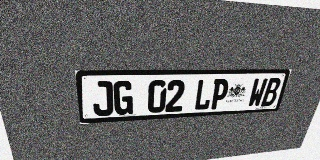0: (147, 80, 167, 113)
2: (165, 80, 185, 112)
B: (260, 78, 282, 106)
G: (113, 80, 133, 115)
J: (91, 81, 113, 116)
L: (193, 79, 214, 110)
P: (209, 79, 230, 110)
W: (247, 78, 268, 107)
